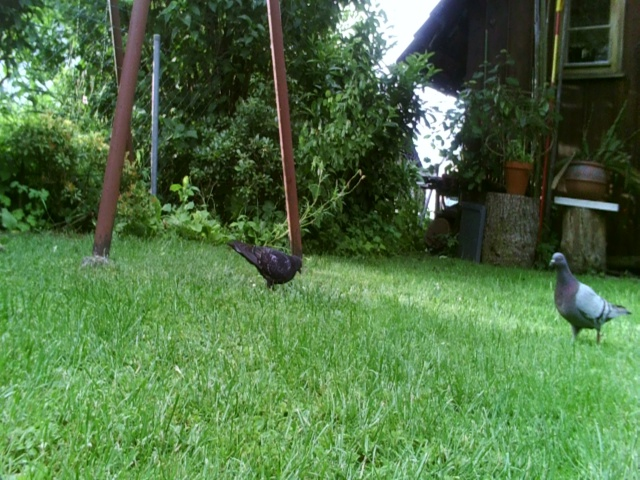Pigeon: (540, 249, 629, 346), (210, 236, 316, 302)
